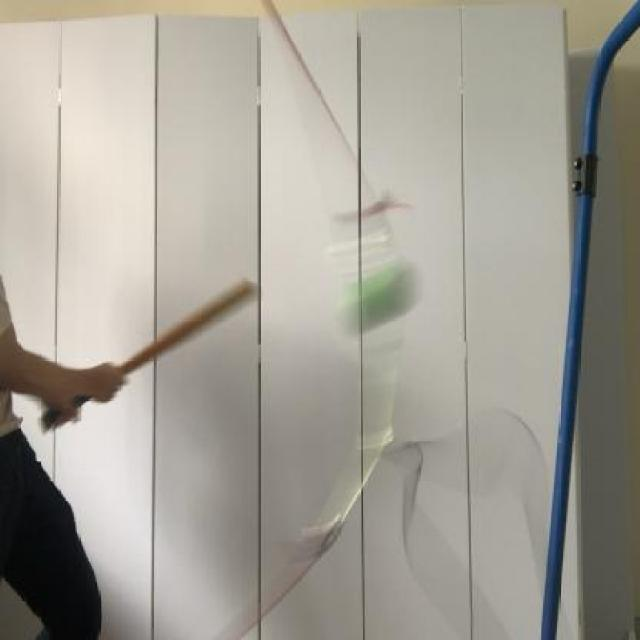baseball: (335, 247, 433, 342)
